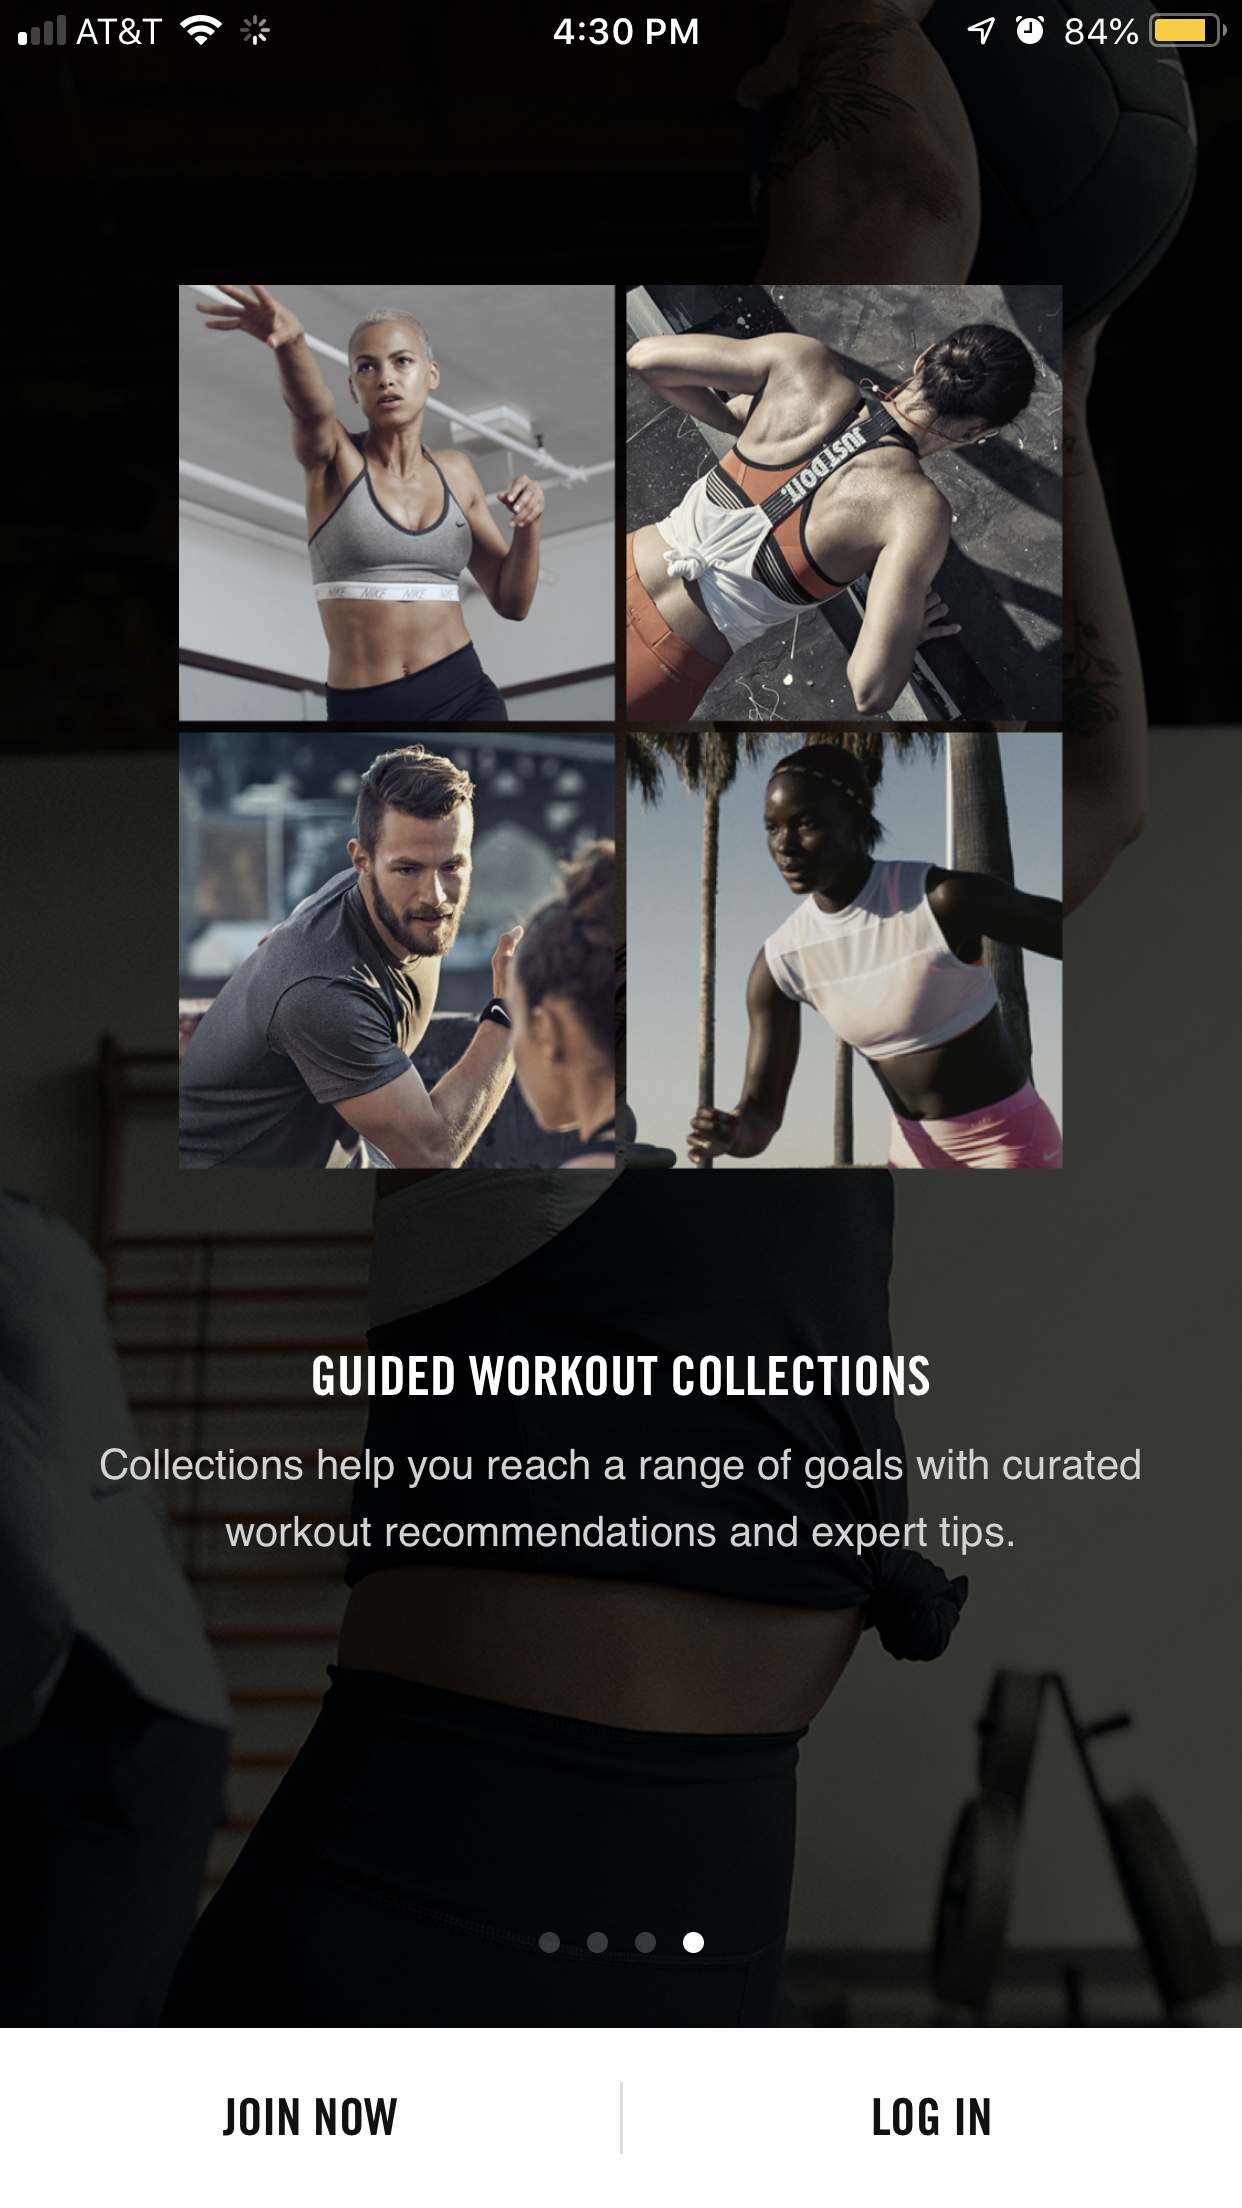Image: (179, 287, 1063, 1171)
PageIndicator: (538, 1930, 705, 1955)
Text: (100, 1447, 1140, 1556), (312, 1356, 930, 1397), (223, 2097, 397, 2137), (873, 2097, 990, 2137)
UpperTaskBar: (2, 2, 1242, 49)
